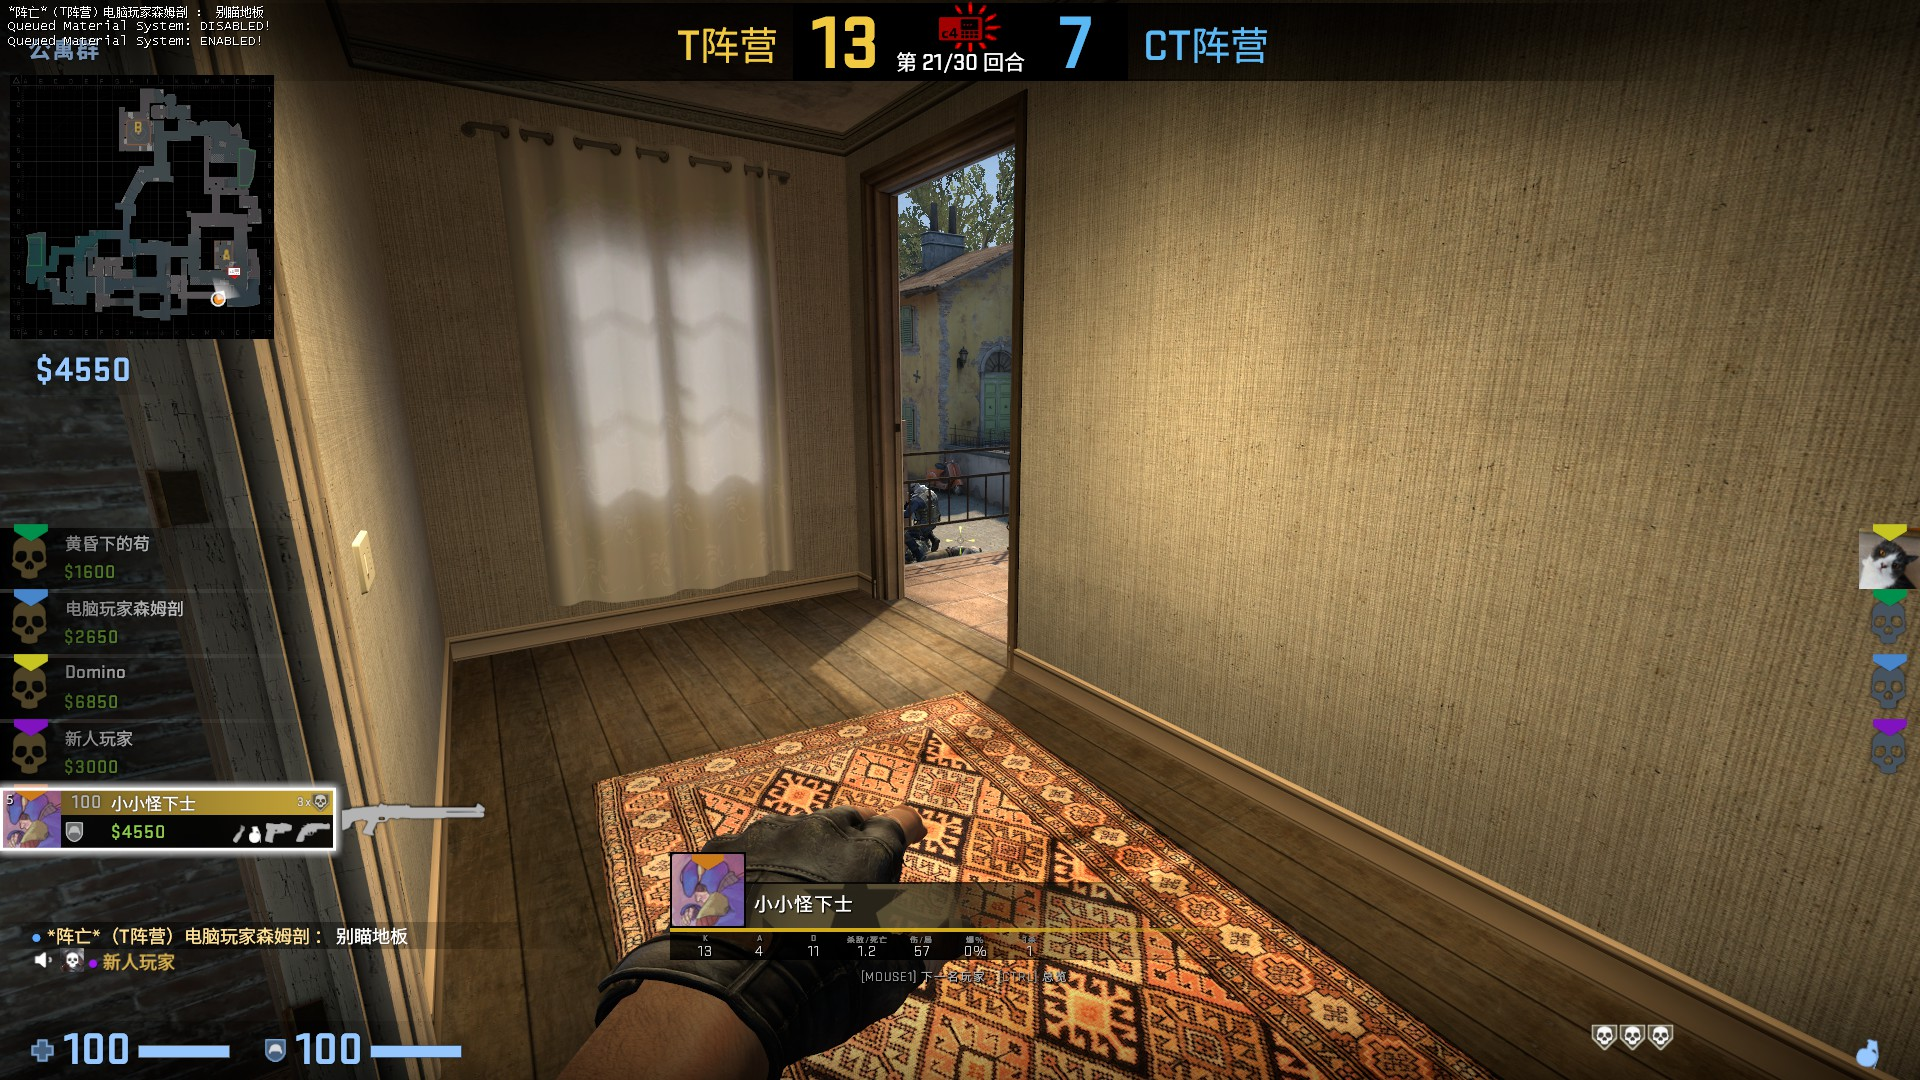head: (906, 480, 922, 494)
